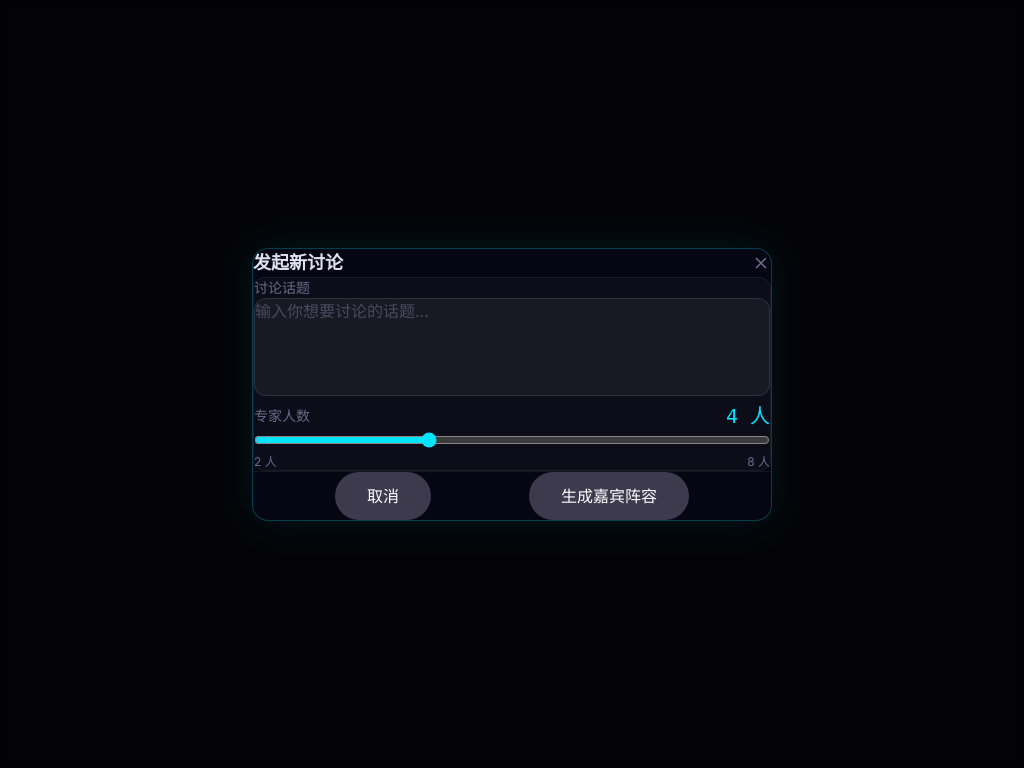
it: CreateDiscussionModal › moves to confirm step on successful API response
Type "AI Safety" into the text box with placeholder "输入你想要讨论的话题...".
click(512, 346); type("AI Safety")  # box x1=254 y1=298 x2=770 y2=396
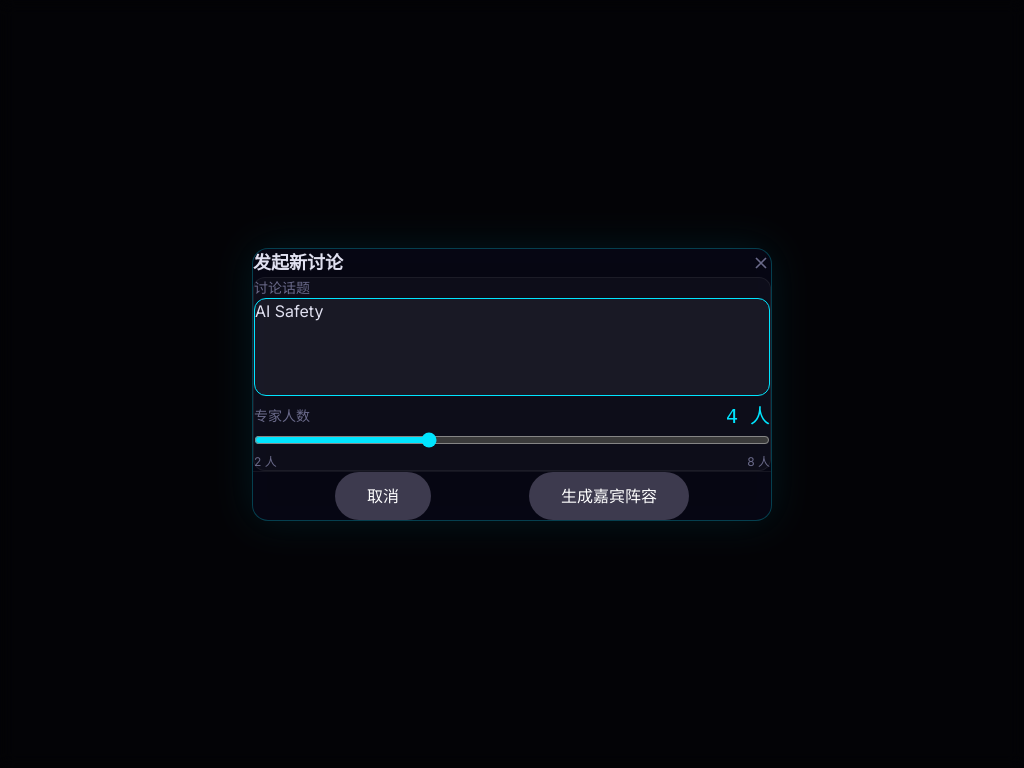
Click the button "生成嘉宾阵容".
click(609, 496)  # box x1=529 y1=472 x2=689 y2=520
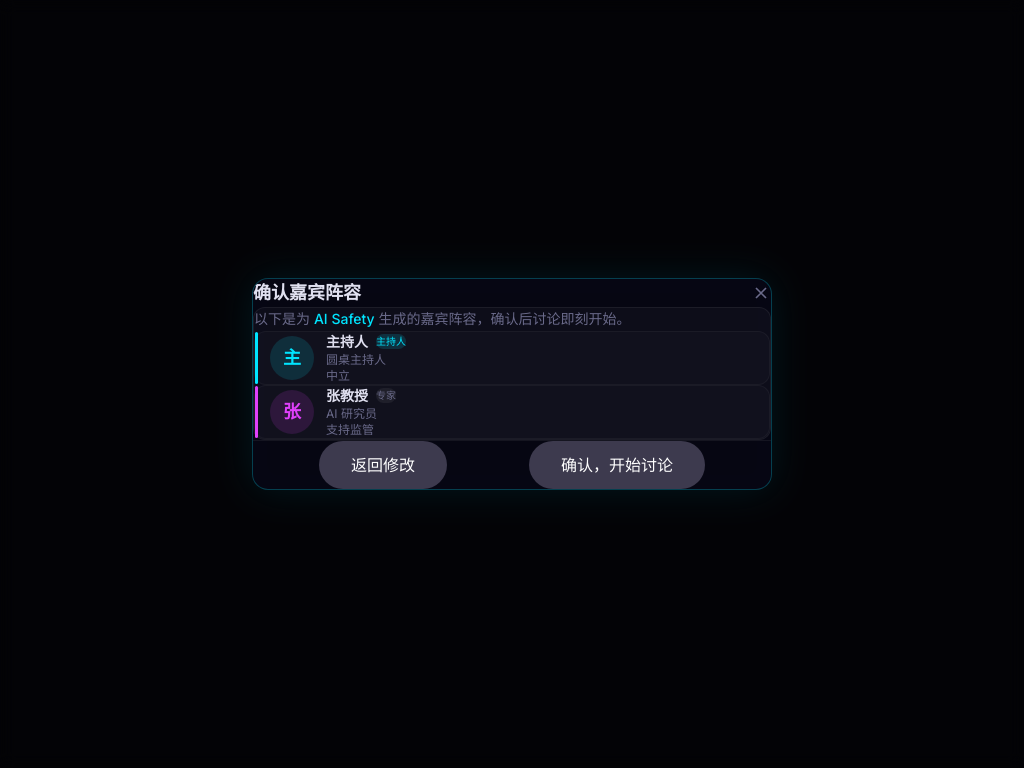
Result: the heading "确认嘉宾阵容" is shown at x1=253 y1=279 x2=361 y2=307
Result: the text "张教授" is shown at x1=326 y1=386 x2=368 y2=406
